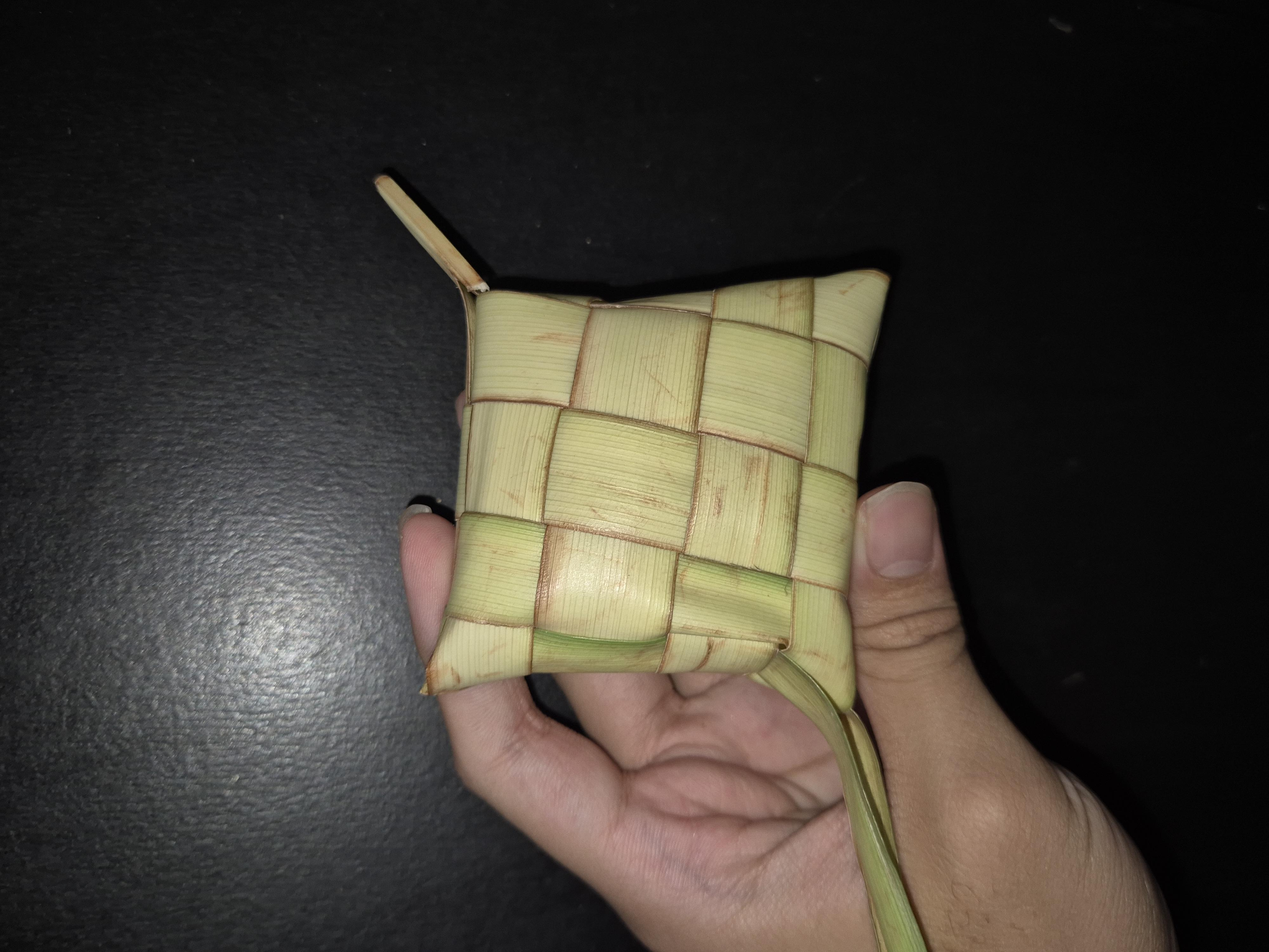Tipat Nasi: (328, 322, 909, 666)
